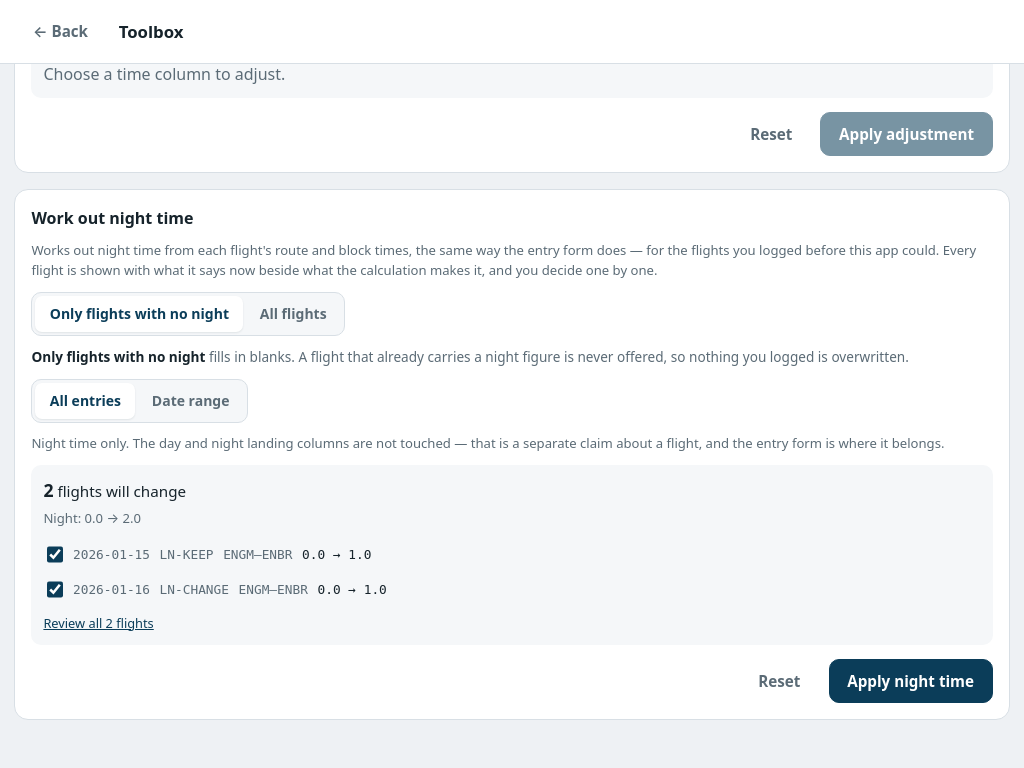
Test: keeping what was logged › leaves an unticked flight exactly as it was, and changes the rest
This screenshot has width=1024, height=768.
(page scrolled)
Step 1. Click the checkbox labelled "2026-01-15 LN-KEEP ENGM–ENBR 0.0 → 1.0" → (55, 555), box [47, 546, 63, 563]
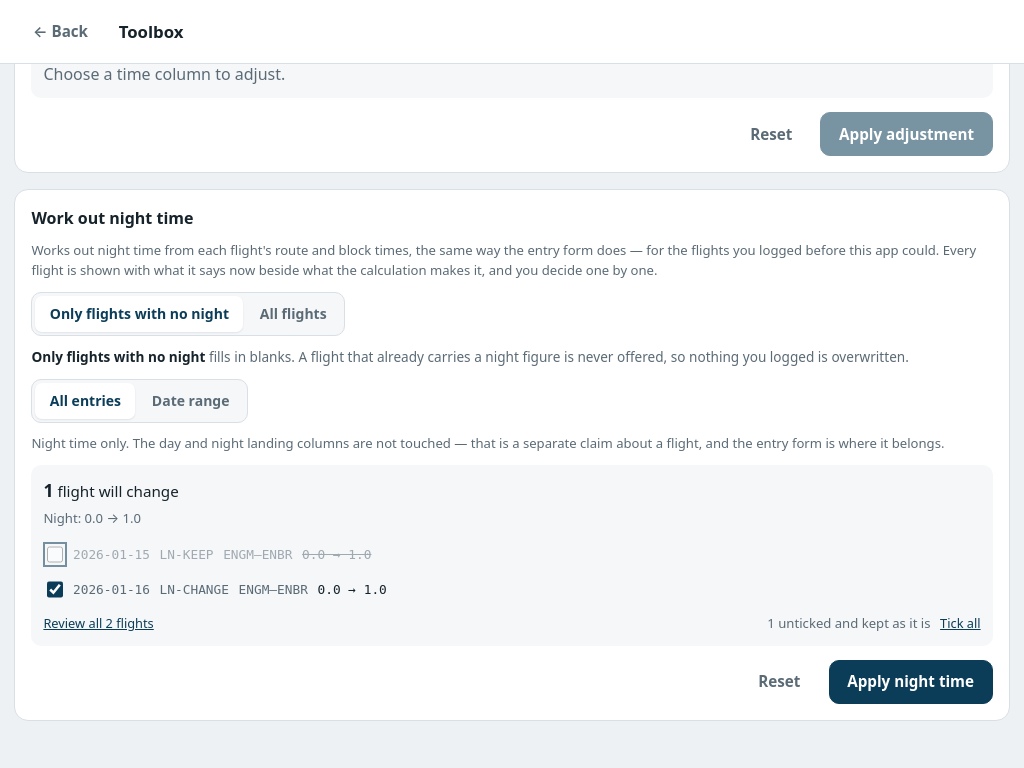
Step 2. Click the button "Apply night time" → (911, 682), box [829, 660, 993, 704]
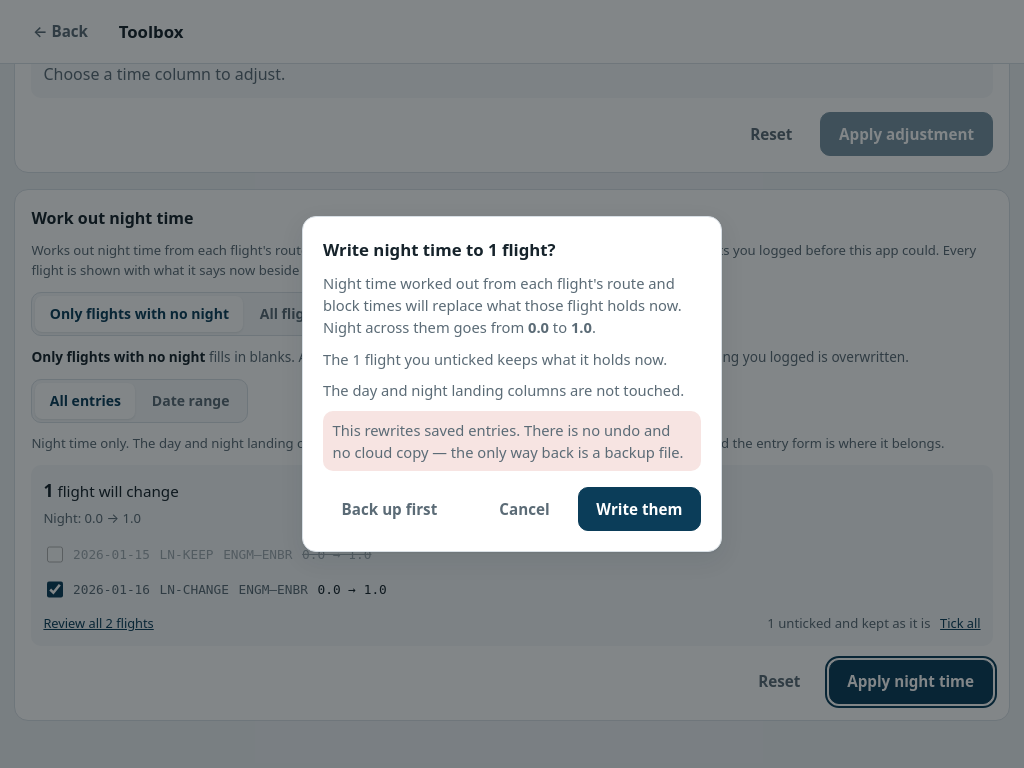
Step 3. Click the button "Write them" → (639, 509), box [578, 487, 701, 531]
(page scrolled)
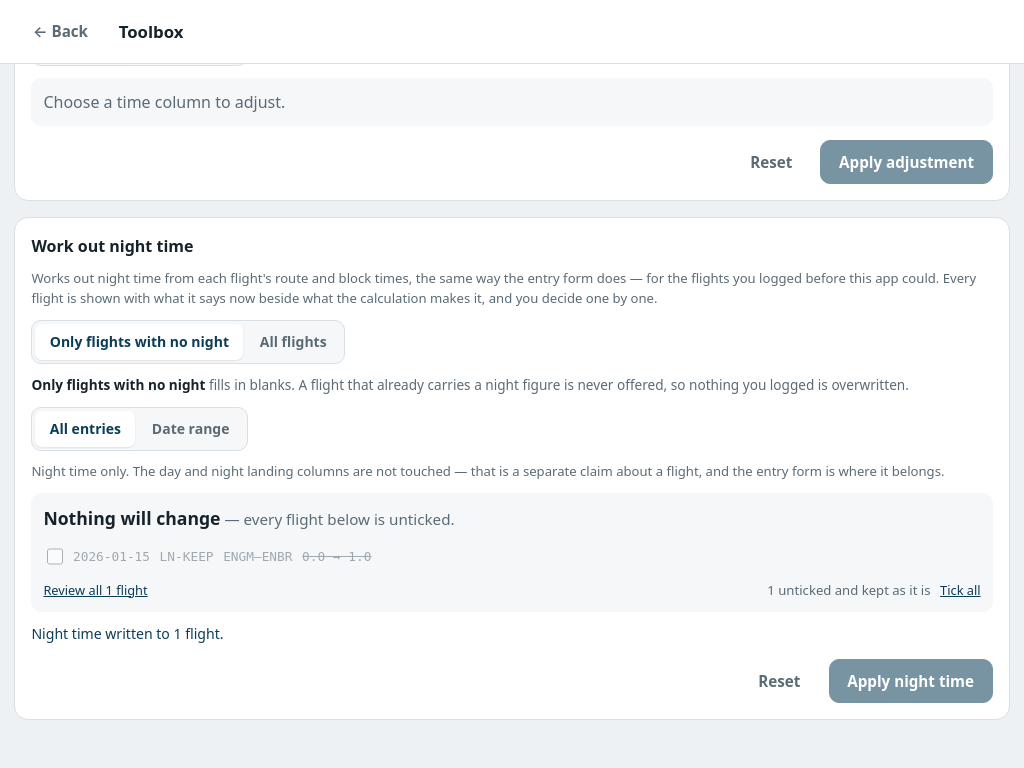
Check: the text "Night time written to 1 flight." is shown, box [31, 624, 224, 643]
